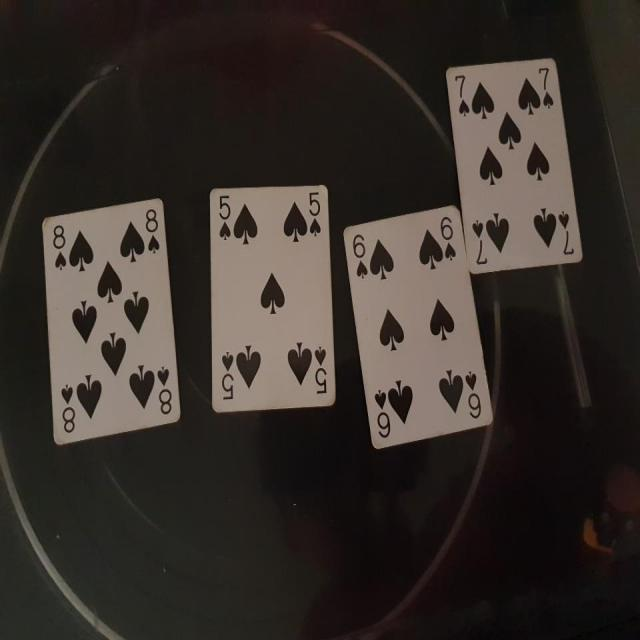5 Spades: (202, 179, 341, 424)
6 Spades: (337, 206, 499, 458)
7 Spades: (437, 41, 593, 282)
8 Spades: (34, 182, 188, 448)
